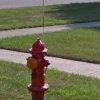Hydrant: (15, 29, 57, 100)
